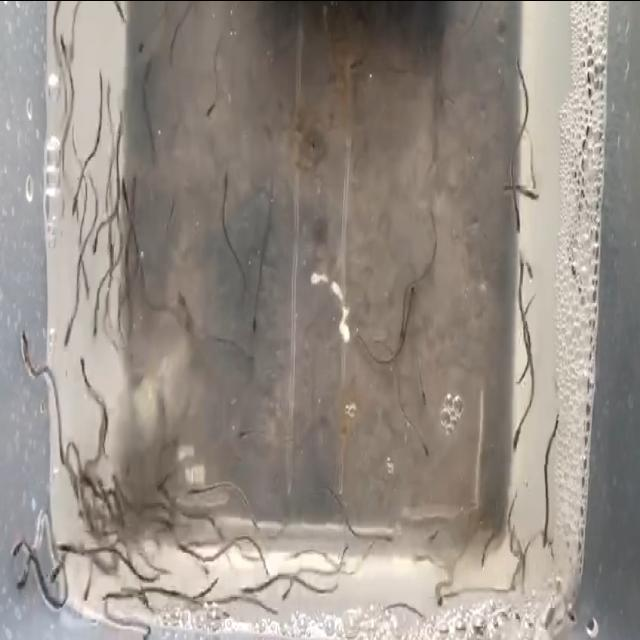inactive_glass_eel: (126, 6, 158, 70), (0, 511, 32, 567), (49, 516, 81, 568), (196, 92, 230, 135), (411, 355, 438, 409), (230, 564, 258, 615), (504, 406, 528, 461), (538, 502, 566, 548), (68, 168, 88, 224), (422, 506, 450, 546), (244, 302, 268, 348), (373, 519, 401, 558), (15, 324, 33, 382), (518, 238, 541, 282), (52, 27, 70, 78), (99, 233, 117, 283), (233, 422, 257, 458), (166, 506, 192, 539), (220, 160, 242, 197), (72, 588, 96, 621), (57, 312, 77, 346), (388, 319, 406, 356), (113, 181, 135, 211), (174, 526, 197, 554), (433, 576, 447, 621), (268, 578, 294, 602), (410, 432, 434, 458), (15, 558, 32, 594), (76, 361, 96, 391), (406, 276, 424, 306), (183, 473, 204, 495), (122, 244, 134, 277), (507, 222, 523, 246), (86, 238, 100, 262), (86, 324, 102, 344), (47, 564, 59, 586)
